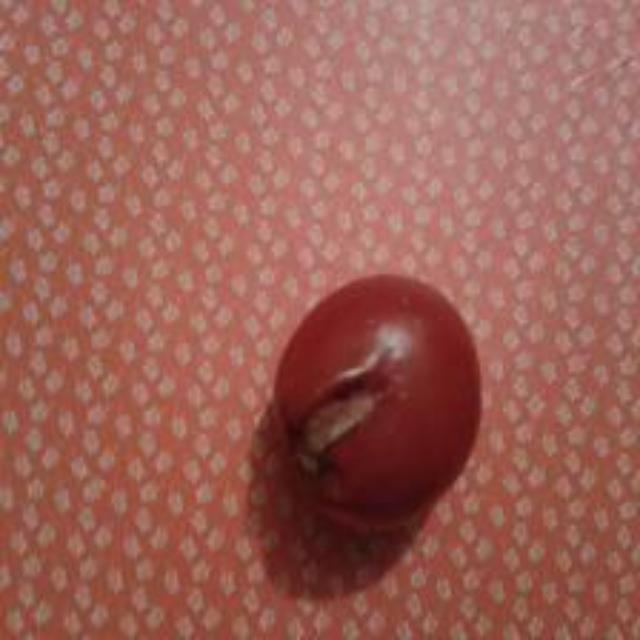defect: (270, 271, 484, 521)
